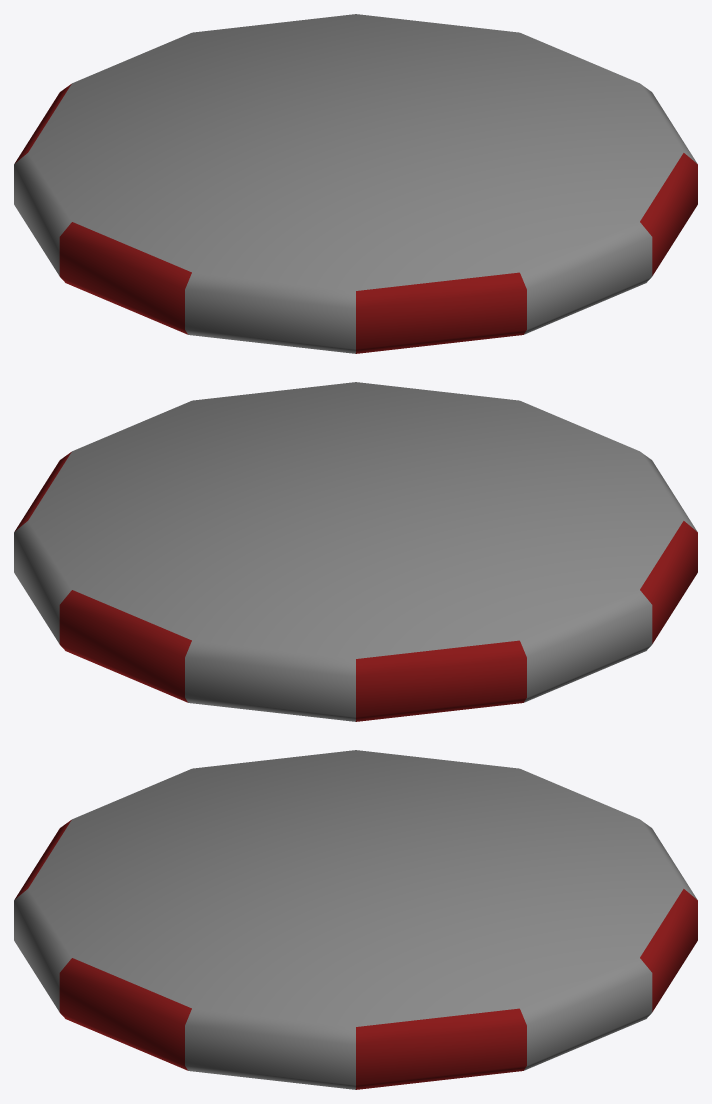
The model's file is Jam-PotTop.fbx.
The picture shows the model from 3 angles, top to bottom: view 1: azimuth 30°, elevation 25°; view 2: azimuth 150°, elevation 25°; view 3: azimuth 270°, elevation 25°; orthographic projection.
Visible parts, largest first — view 1: Jam-PotTop; view 2: Jam-PotTop; view 3: Jam-PotTop.
Boxes of the visible parts, x1,y1,x2,y2 form: Jam-PotTop: (14, 14, 697, 353); Jam-PotTop: (14, 382, 697, 721); Jam-PotTop: (14, 750, 697, 1089).
Size of the model in its own units: 633 by 61.67 by 633.
